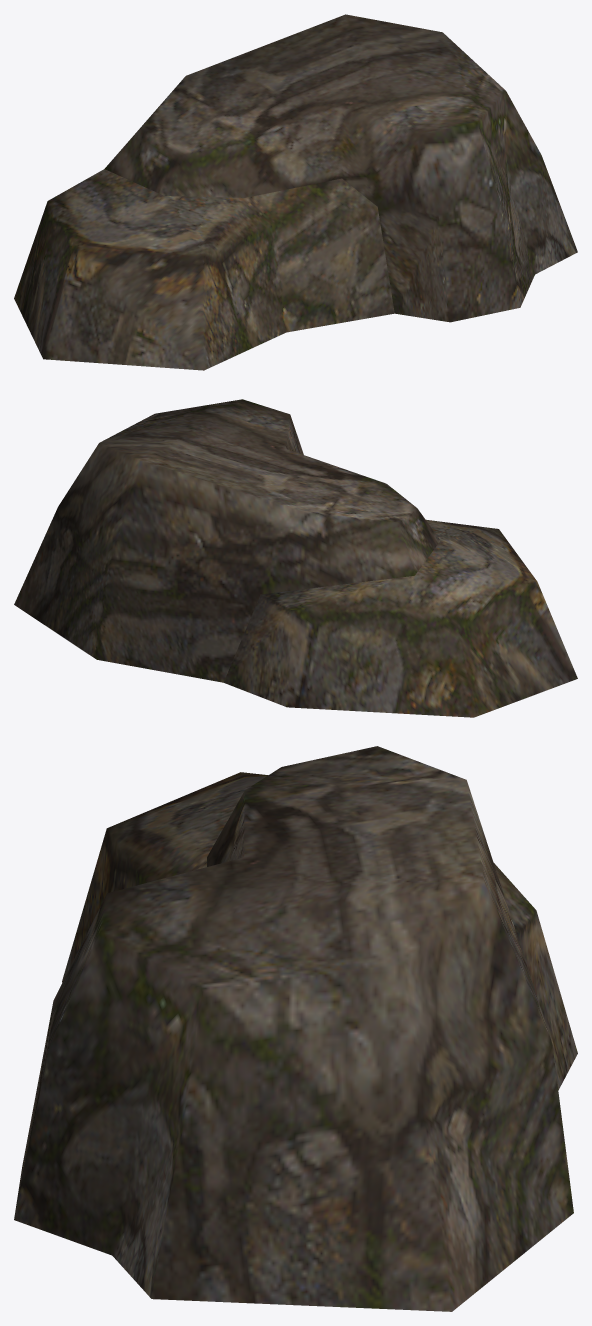
The model's file is Rock08.FBX.
3 views of the same model, one above another, from view 1: azimuth 30°, elevation 25°; view 2: azimuth 150°, elevation 25°; view 3: azimuth 270°, elevation 25° (orthographic). The views are drawn at different scales.
Visible parts, largest first — view 1: Rock08; view 2: Rock08; view 3: Rock08.
Part boxes in pixels (x1,y1,x2,y2): Rock08: (14,14,577,370); Rock08: (14,399,577,717); Rock08: (14,746,577,1311).
Bounding box in the file's own units: 263 × 92.66 × 151.
